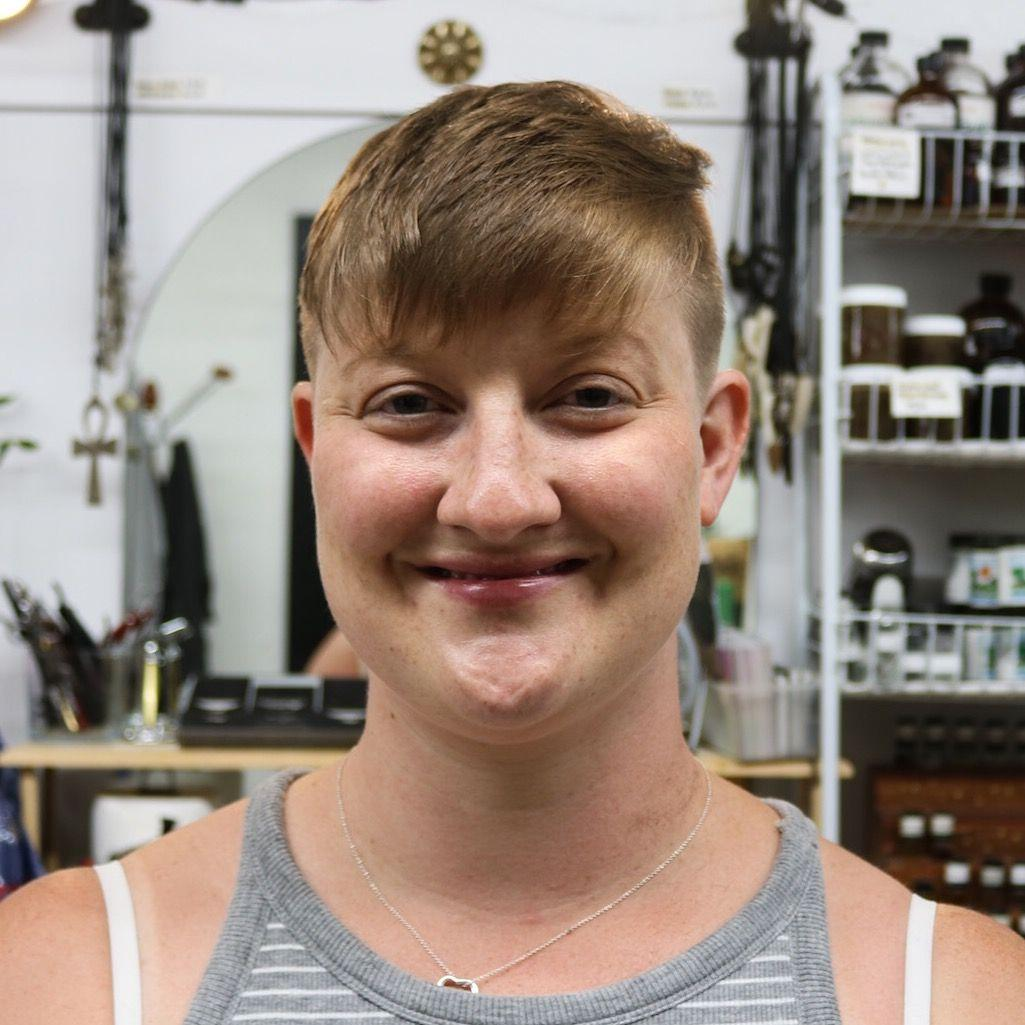not_helmet: (277, 68, 771, 760)
not_reflective: (0, 756, 1025, 1025)
